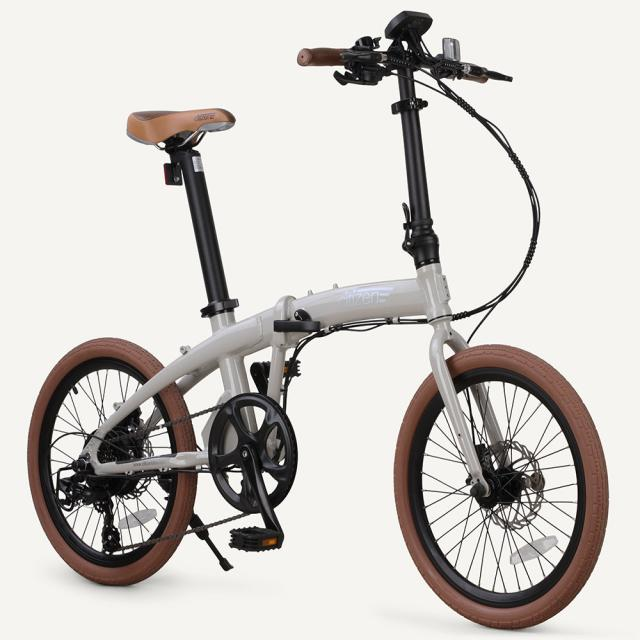folding-bike: (26, 10, 614, 632)
